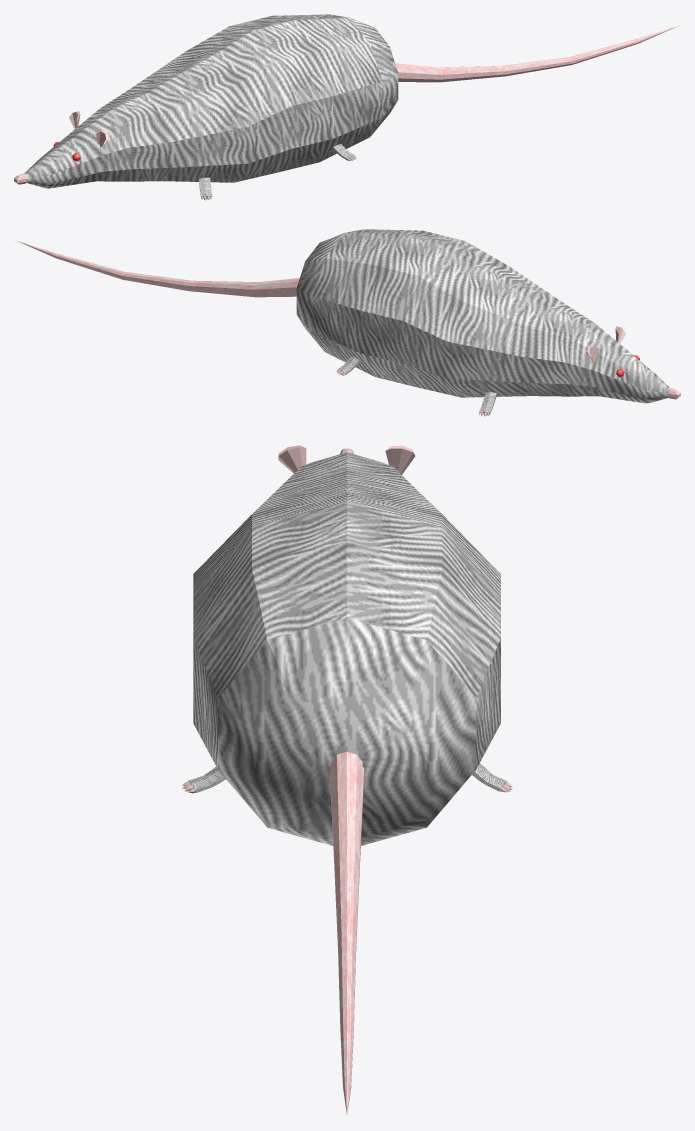
File: player.fbx
3 views of the same model, one above another, from view 1: azimuth 30°, elevation 25°; view 2: azimuth 150°, elevation 25°; view 3: azimuth 270°, elevation 25° (orthographic). The views are drawn at different scales.
Parts seen in each view (by area): view 1: polySurface12; view 2: polySurface12; view 3: polySurface12.
Boxes of the visible parts, left/top/right/bottom form: polySurface12: left=14, top=14, right=679, bottom=200; polySurface12: left=16, top=229, right=680, bottom=416; polySurface12: left=182, top=445, right=512, bottom=1115.
Bounding box in the file's own units: 48.81 × 9.68 × 10.52.
